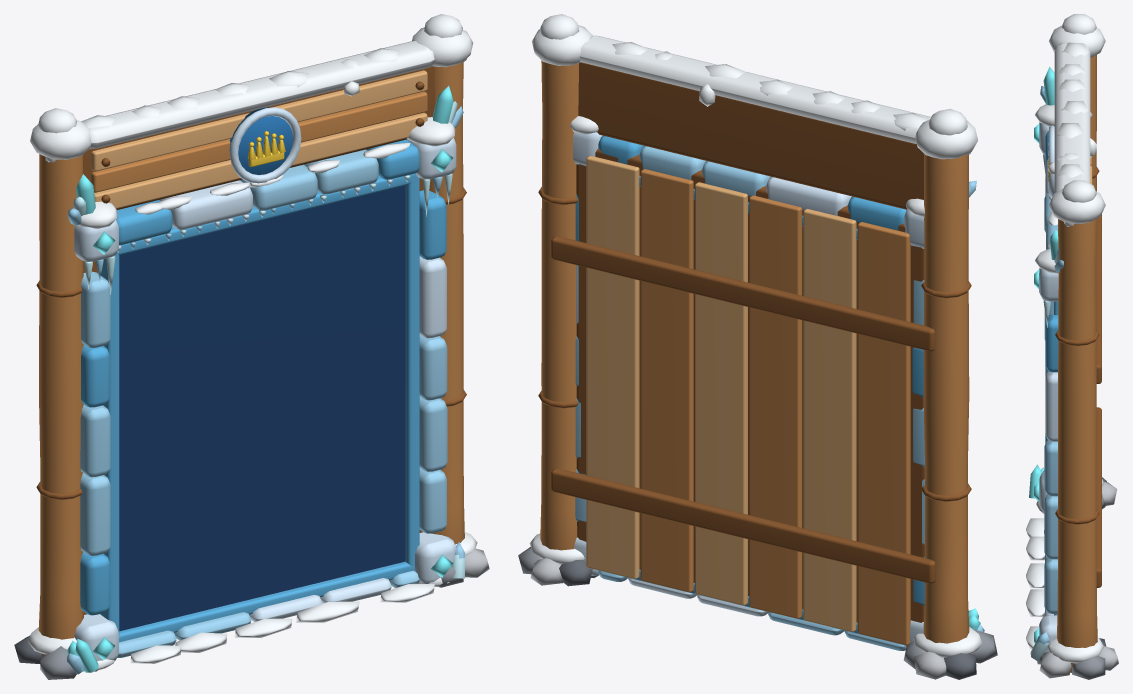
The model's file is LeaderboardBoard.fbx.
3 views of the same model, side by side, from view 1: azimuth 30°, elevation 25°; view 2: azimuth 150°, elevation 25°; view 3: azimuth 270°, elevation 25° (orthographic). The views are drawn at different scales.
Parts seen in each view (by area): view 1: LeaderboardBoardPanel, LeaderboardBoardIce, LeaderboardBoardWood, LeaderboardBoardSnow, LeaderboardBoardCrystals, LeaderboardBoardStone, LeaderboardBoardGold; view 2: LeaderboardBoardWood, LeaderboardBoardSnow, LeaderboardBoardIce, LeaderboardBoardStone; view 3: LeaderboardBoardWood, LeaderboardBoardSnow, LeaderboardBoardIce, LeaderboardBoardStone, LeaderboardBoardCrystals.
Part boxes in pixels (x1,y1,x2,y2): LeaderboardBoardPanel: [119, 185, 405, 631]; LeaderboardBoardIce: [74, 107, 456, 661]; LeaderboardBoardWood: [36, 62, 466, 657]; LeaderboardBoardSnow: [28, 14, 477, 671]; LeaderboardBoardCrystals: [67, 86, 465, 674]; LeaderboardBoardStone: [14, 548, 489, 679]; LeaderboardBoardGold: [247, 131, 285, 166]; LeaderboardBoardWood: [538, 60, 971, 645]; LeaderboardBoardSnow: [529, 14, 982, 657]; LeaderboardBoardIce: [573, 132, 924, 650]; LeaderboardBoardStone: [518, 547, 997, 679]; LeaderboardBoardWood: [1055, 55, 1101, 672]; LeaderboardBoardSnow: [1026, 14, 1105, 663]; LeaderboardBoardIce: [1039, 122, 1058, 642]; LeaderboardBoardStone: [1037, 477, 1118, 679]; LeaderboardBoardCrystals: [1029, 66, 1063, 660].
Bounding box in the file's own units: 246 × 286 × 49.62.
